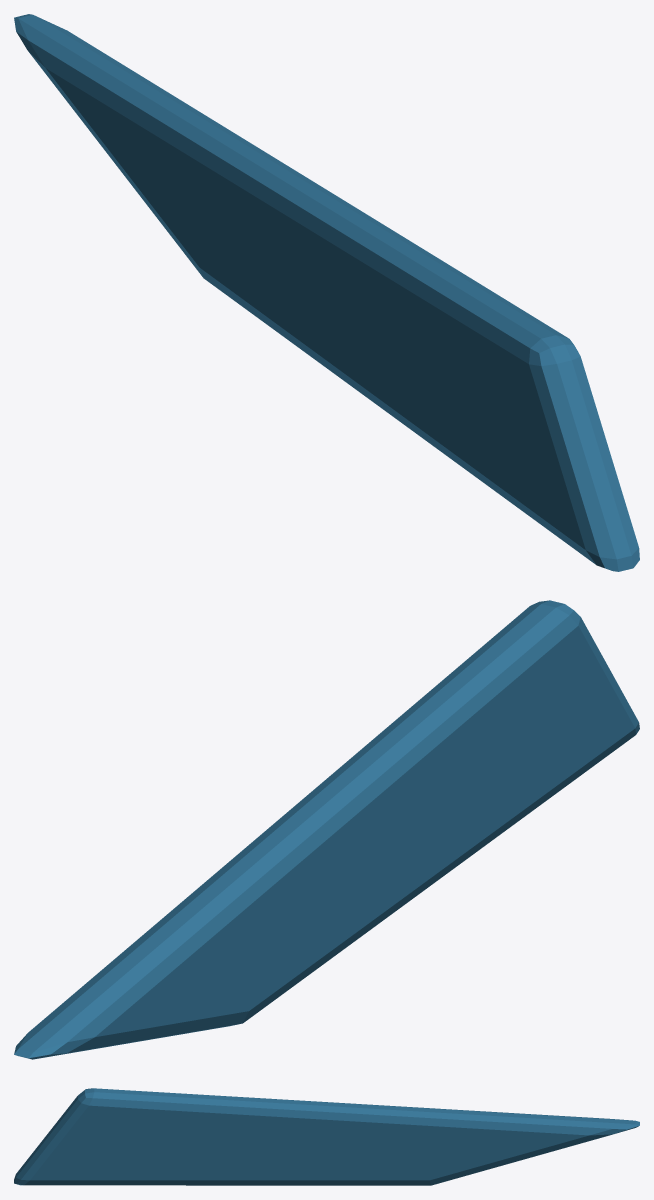
Rendered from VerticalFin.fbx.
The picture shows the model from 3 angles, top to bottom: view 1: azimuth 30°, elevation 25°; view 2: azimuth 150°, elevation 25°; view 3: azimuth 270°, elevation 25°; orthographic projection. The views are drawn at different scales.
Visible parts, largest first — view 1: VerticalFin_RENDER; view 2: VerticalFin_RENDER; view 3: VerticalFin_RENDER.
Boxes of the visible parts, x1,y1,x2,y2 form: VerticalFin_RENDER: (14, 14, 639, 571); VerticalFin_RENDER: (14, 600, 639, 1059); VerticalFin_RENDER: (14, 1088, 639, 1185).
Size of the model in its own units: 0.08 by 0.2782 by 1.69.
